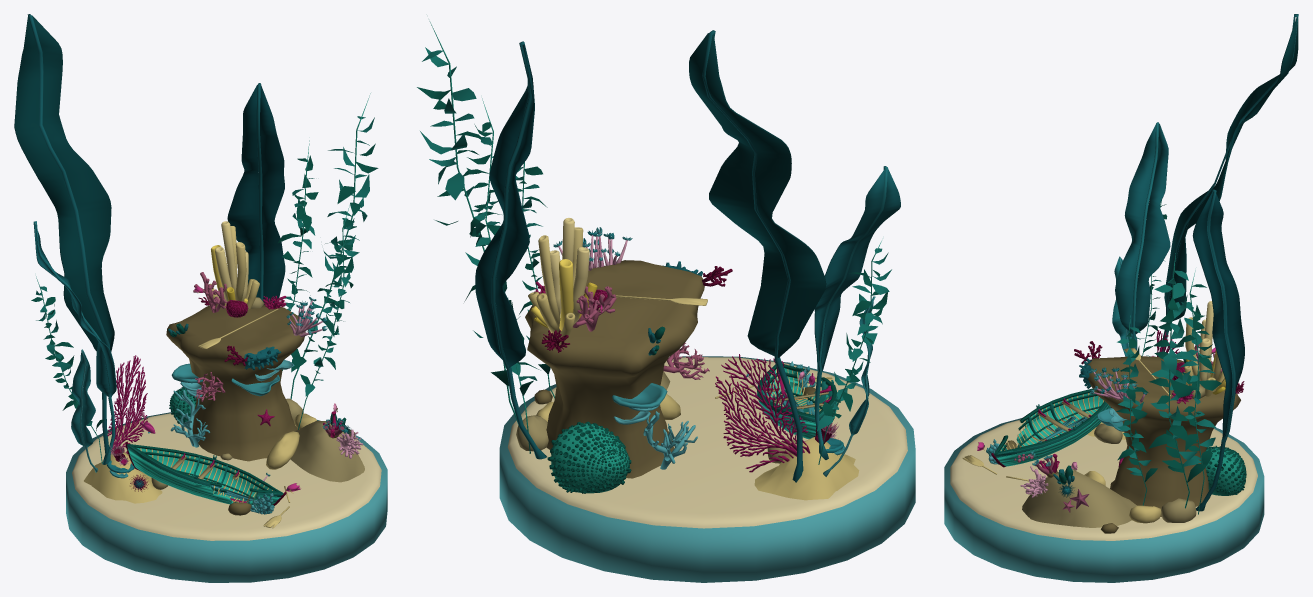
The model's file is reef_1.glb.
3 views of the same model, side by side, from view 1: azimuth 30°, elevation 25°; view 2: azimuth 150°, elevation 25°; view 3: azimuth 270°, elevation 25° (orthographic). The views are drawn at different scales.
Parts seen in each view (by area): view 1: Object_20, Object_2, Object_5, Object_25, Object_6, Object_9, Object_12, Object_40, Object_13, Object_16, Object_33, Object_14 (+10 smaller); view 2: Object_2, Object_20, Object_25, Object_5, Object_12, Object_6, Object_40, Object_13, Object_28, Object_15, Object_9, Object_7 (+10 smaller); view 3: Object_20, Object_2, Object_25, Object_12, Object_9, Object_6, Object_13, Object_33, Object_5, Object_16, Object_15, Object_40 (+6 smaller).
Part boxes in pixels (bbox=[...]): Object_20: bbox=[66, 382, 387, 582]; Object_2: bbox=[72, 413, 381, 540]; Object_5: bbox=[14, 15, 114, 351]; Object_25: bbox=[166, 304, 337, 461]; Object_6: bbox=[227, 85, 351, 435]; Object_9: bbox=[31, 143, 378, 502]; Object_12: bbox=[27, 14, 263, 488]; Object_40: bbox=[84, 279, 316, 503]; Object_13: bbox=[36, 116, 374, 496]; Object_16: bbox=[127, 448, 280, 508]; Object_33: bbox=[197, 291, 364, 482]; Object_14: bbox=[33, 221, 348, 473]; Object_2: bbox=[507, 357, 907, 528]; Object_20: bbox=[499, 356, 915, 582]; Object_25: bbox=[525, 260, 704, 478]; Object_5: bbox=[689, 33, 826, 357]; Object_12: bbox=[491, 30, 900, 482]; Object_6: bbox=[475, 44, 534, 367]; Object_40: bbox=[528, 291, 859, 500]; Object_13: bbox=[420, 47, 891, 430]; Object_28: bbox=[715, 354, 810, 472]; Object_15: bbox=[429, 21, 881, 493]; Object_9: bbox=[417, 87, 887, 418]; Object_7: bbox=[547, 421, 631, 493]; Object_20: bbox=[944, 418, 1264, 582]; Object_2: bbox=[950, 419, 1257, 540]; Object_25: bbox=[1073, 356, 1240, 516]; Object_12: bbox=[1115, 14, 1298, 511]; Object_9: bbox=[994, 204, 1221, 484]; Object_6: bbox=[1059, 191, 1244, 497]; Object_13: bbox=[994, 260, 1216, 475]; Object_33: bbox=[1022, 352, 1213, 527]; Object_5: bbox=[1164, 17, 1298, 320]; Object_16: bbox=[996, 393, 1110, 466]; Object_15: bbox=[1128, 200, 1244, 514]; Object_40: bbox=[1000, 366, 1225, 523].
Bounding box in the file's own units: 1225 × 1488 × 1058.
